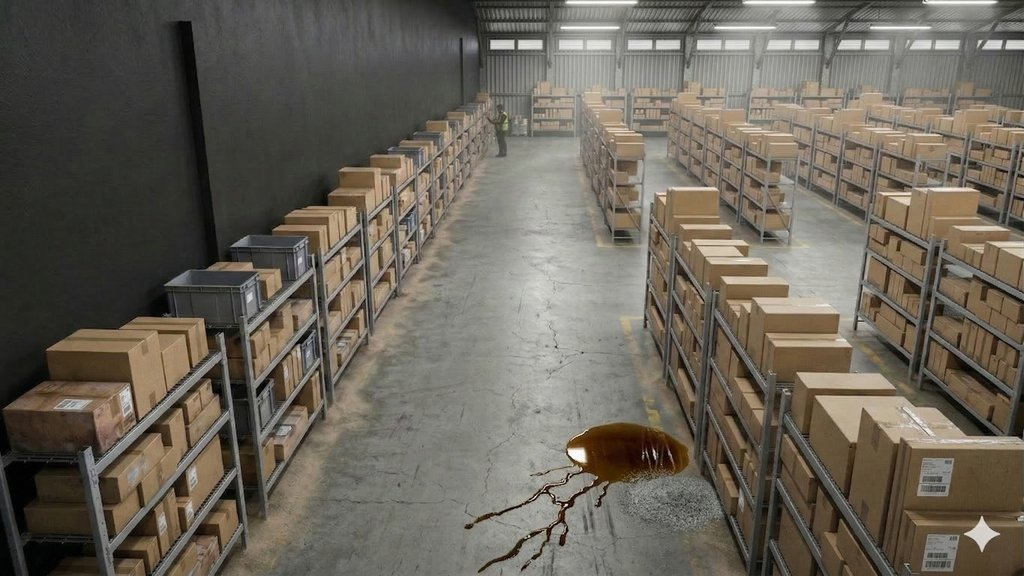person: (488, 97, 517, 164)
safety_vest: (494, 112, 511, 132)
spill: (459, 365, 697, 566)
